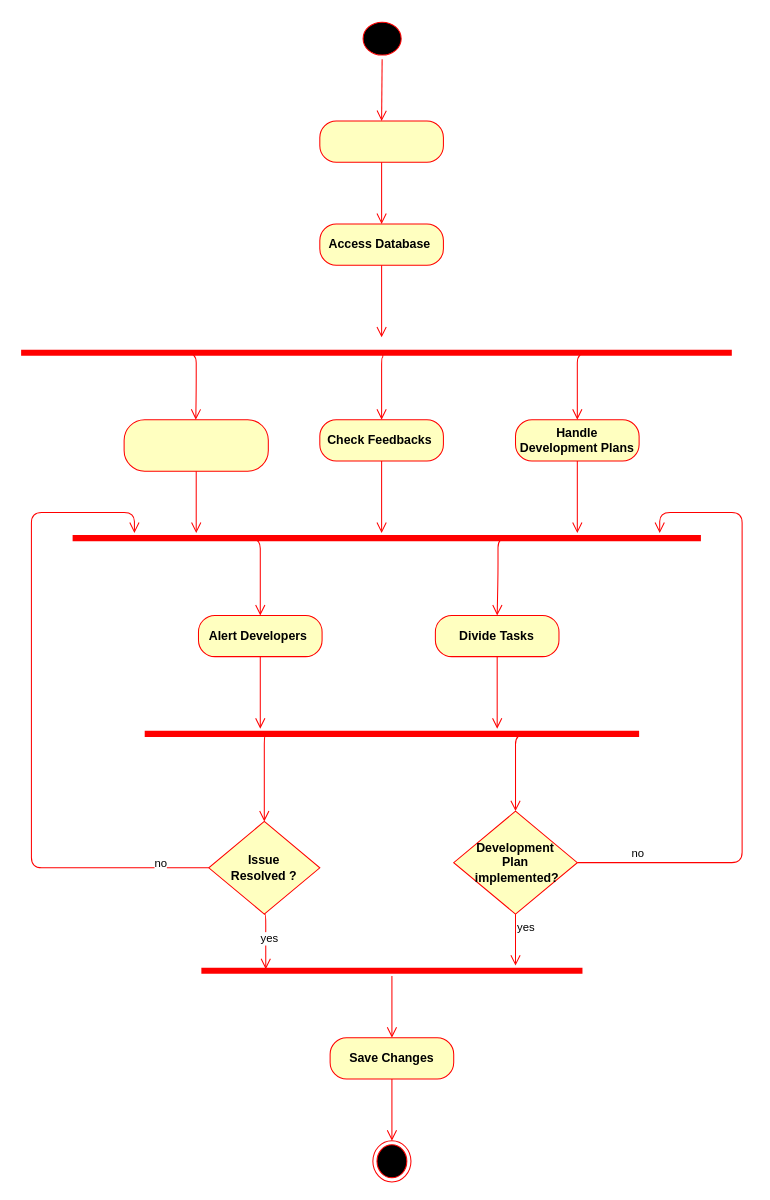
Some shapes in this 770 by 1200 pixel diagram are drawn without their labels. Here are the shapes that lost their labels. From the top down, the box of each, then its label:
(319, 120, 443, 162): Sign in successfully
(123, 419, 268, 471): Review Unsolved Issues
